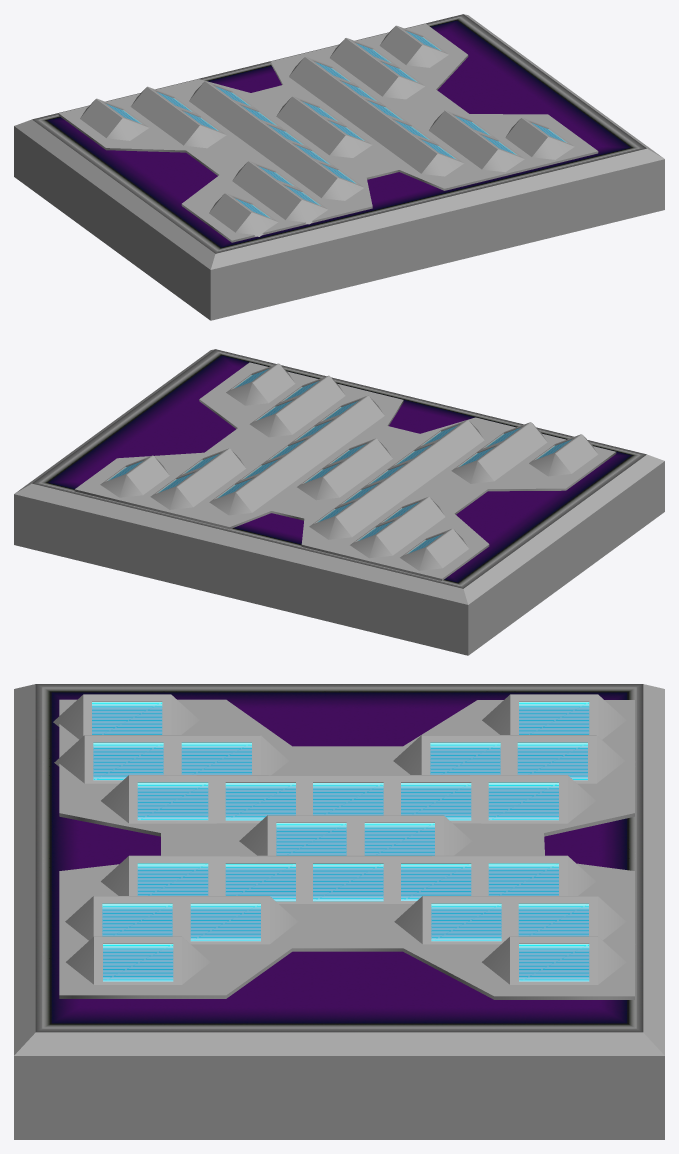
File: Global_WeaponPad.fbx
3 views of the same model, one above another, from view 1: azimuth 30°, elevation 25°; view 2: azimuth 150°, elevation 25°; view 3: azimuth 270°, elevation 25° (orthographic). The views are drawn at different scales.
Visible parts, largest first — view 1: pCube4; view 2: pCube4; view 3: pCube4.
Part boxes in pixels (x1,y1,x2,y2): pCube4: [14, 14, 664, 320]; pCube4: [14, 349, 664, 655]; pCube4: [14, 684, 664, 1139].
Bounding box in the file's own units: 8 × 1.31 × 6.
Materials: 3 (2 with a texture image).
